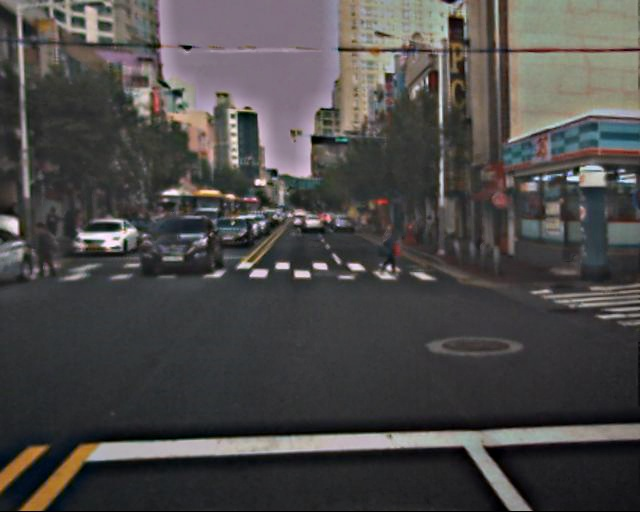person: (26, 218, 60, 280), (374, 222, 406, 283), (413, 222, 438, 247)
